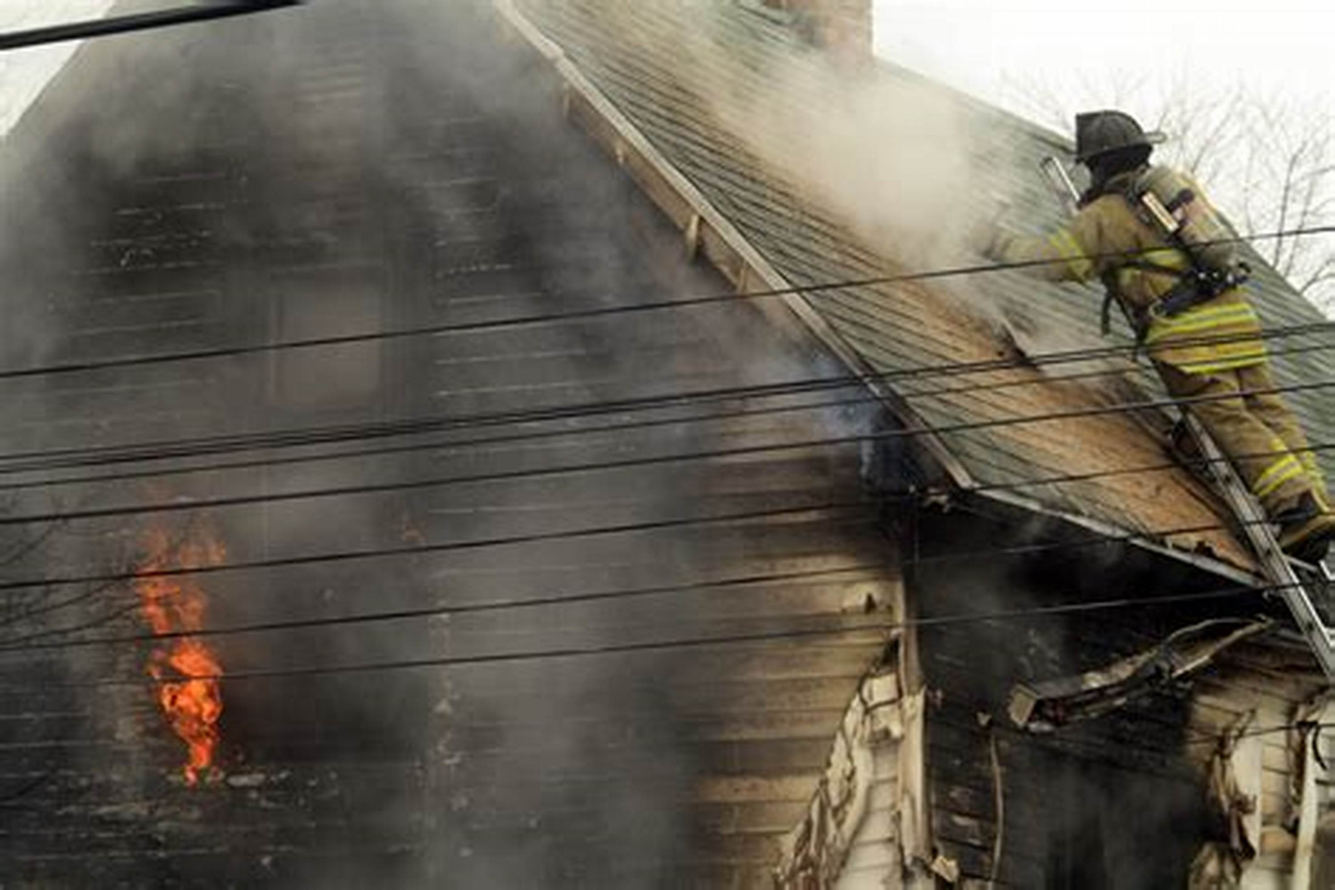fire: (151, 570, 223, 785)
smoke: (55, 42, 555, 342), (771, 53, 988, 226)
